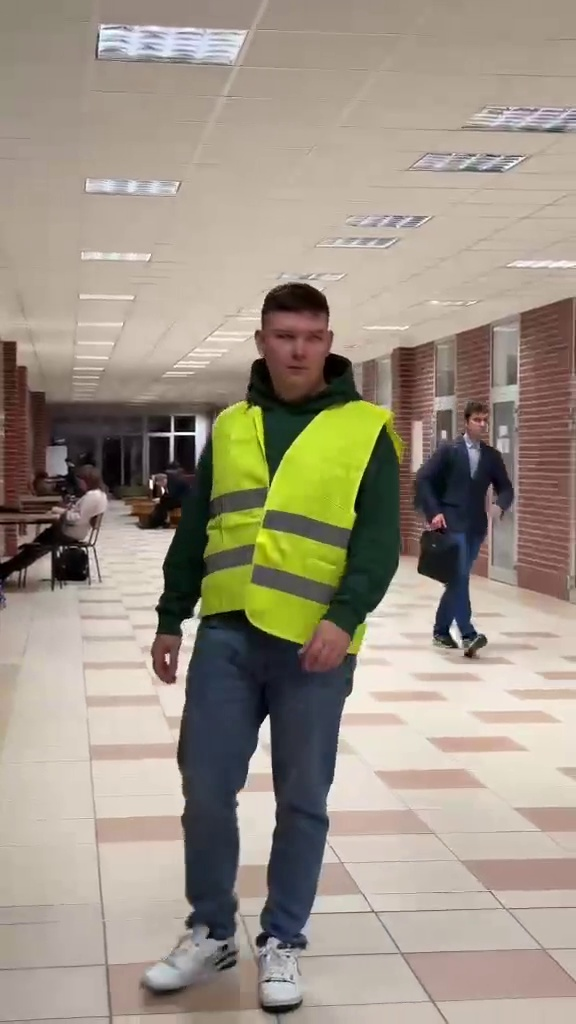no vest: (414, 392, 516, 656), (0, 461, 105, 583)
vest: (153, 281, 399, 1005)
